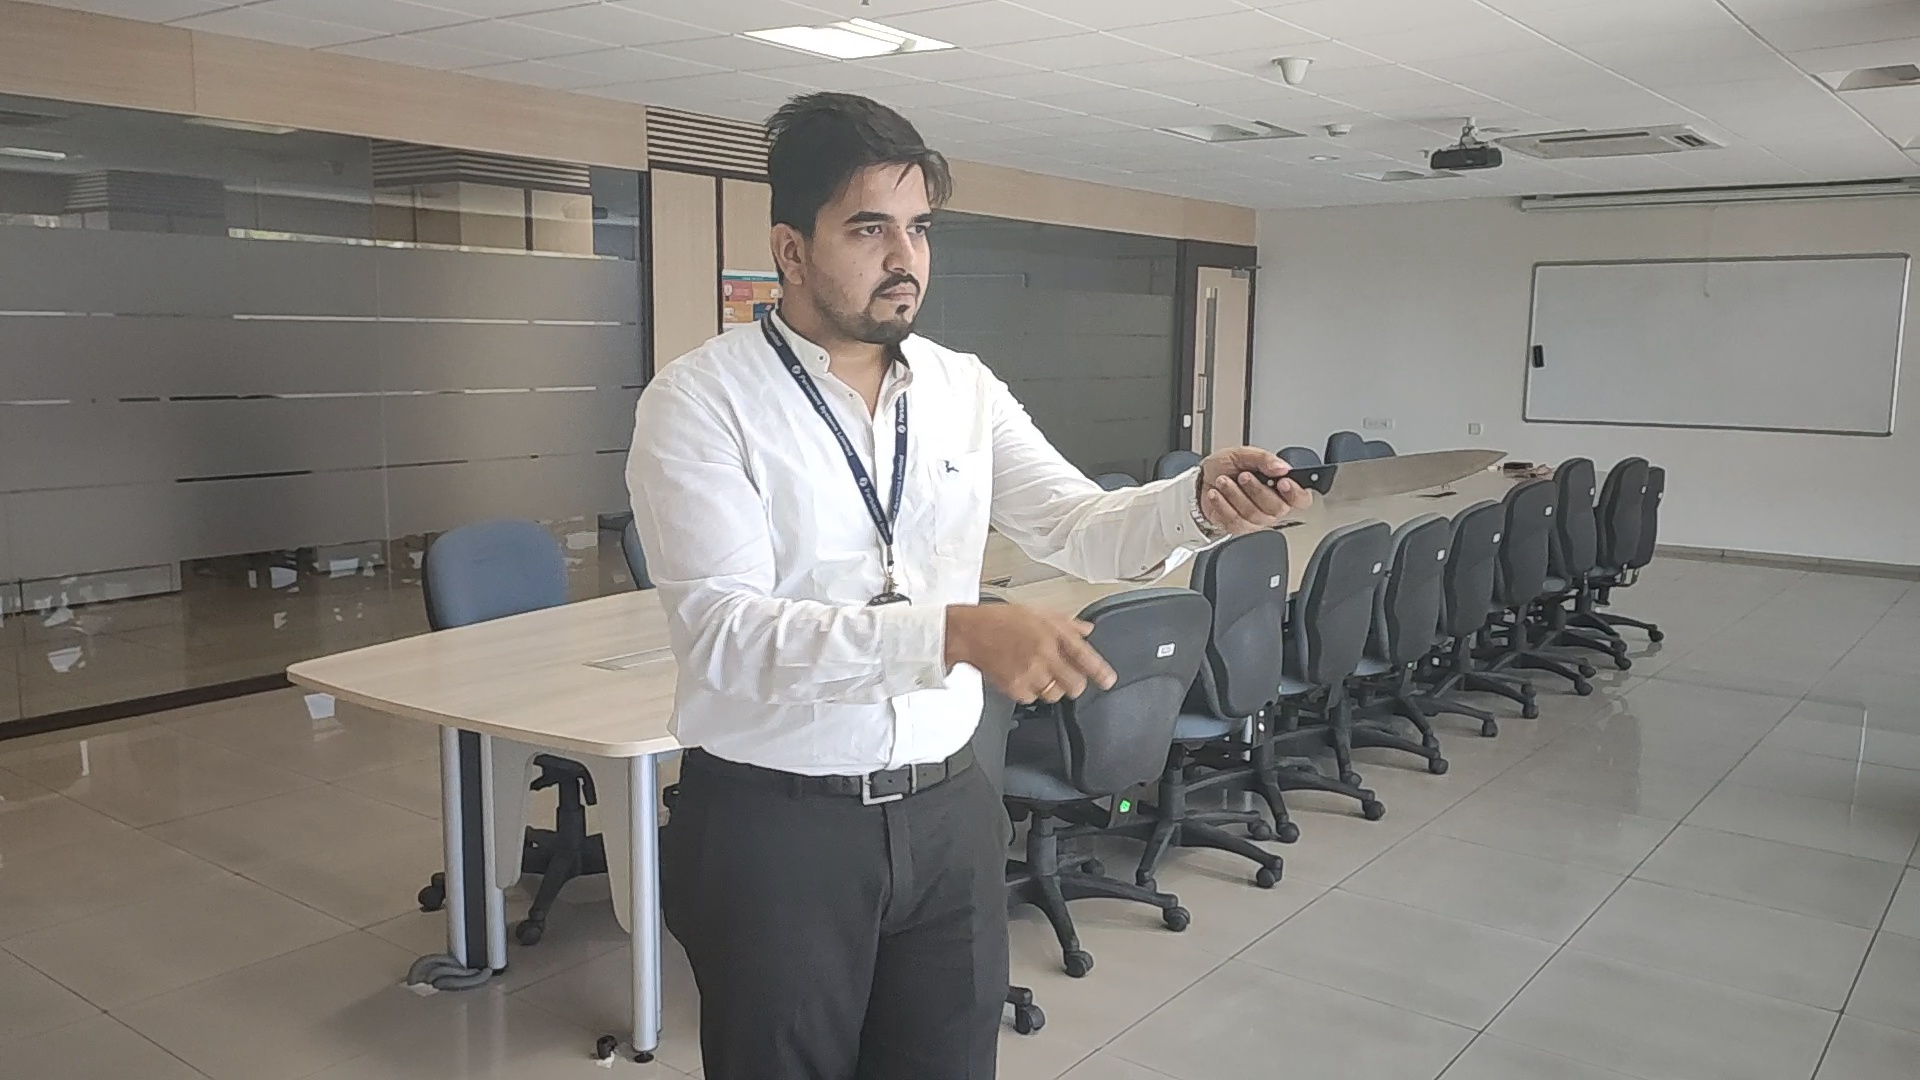knife: (1313, 448, 1510, 506)
